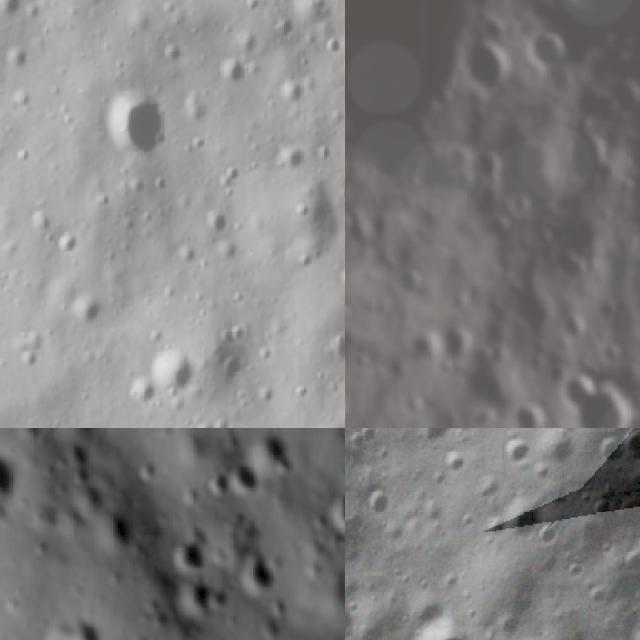crater: (96, 78, 172, 168), (495, 268, 559, 347), (555, 368, 635, 428), (456, 32, 522, 94), (396, 601, 497, 640), (168, 568, 225, 632), (232, 539, 284, 605), (233, 428, 293, 484), (160, 520, 214, 578), (150, 347, 208, 399), (212, 448, 264, 504), (41, 600, 113, 640), (89, 500, 137, 560), (524, 23, 576, 78), (0, 438, 28, 532), (583, 428, 637, 474), (599, 70, 640, 130), (491, 428, 540, 477), (64, 475, 108, 518), (400, 428, 461, 456), (359, 485, 400, 526), (438, 326, 478, 368), (249, 596, 286, 640), (68, 288, 110, 326), (321, 480, 345, 546), (390, 261, 425, 300), (128, 453, 164, 490), (62, 434, 100, 469), (258, 586, 292, 618), (504, 401, 543, 428), (615, 428, 640, 463), (0, 0, 32, 25), (562, 0, 597, 12)
